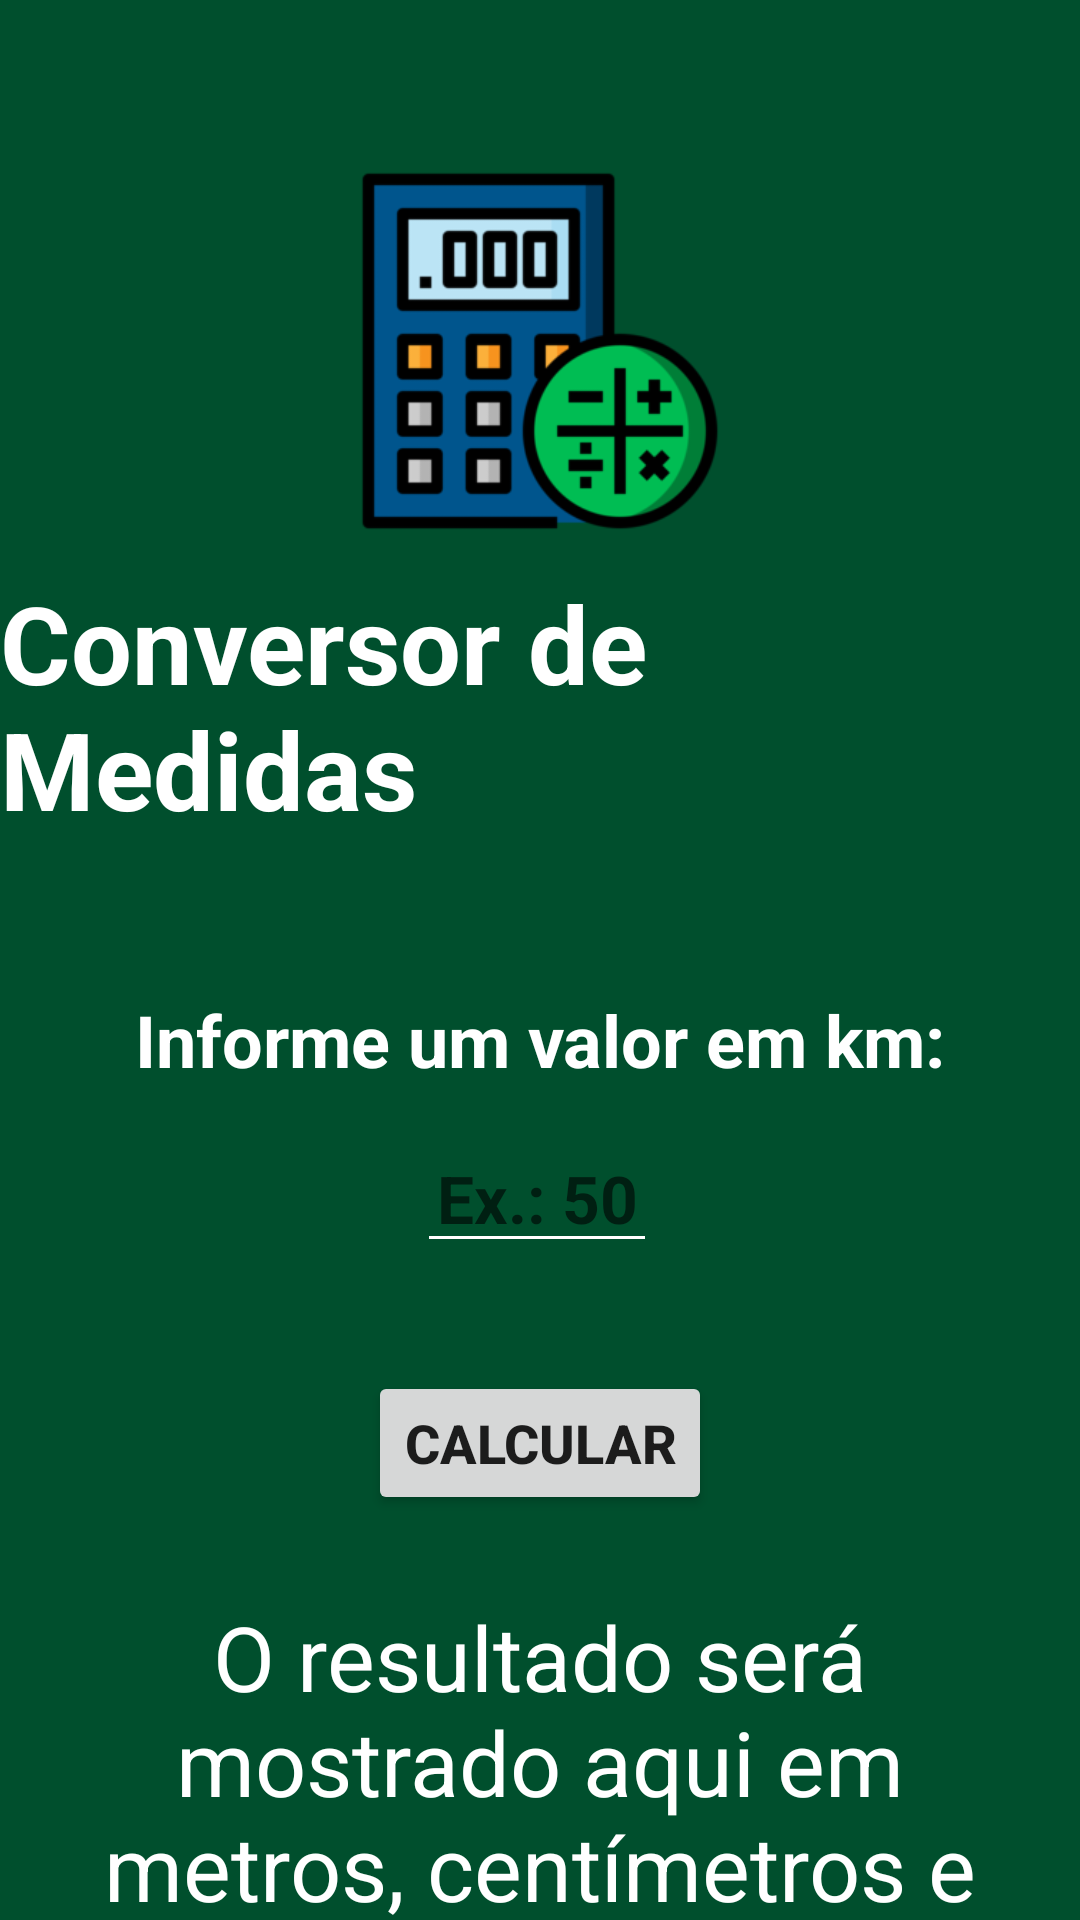

Screen size 1080 x 1920. Icon name, then its center in pixels as (x=x, y=y):
calculator: (x=540, y=351)
